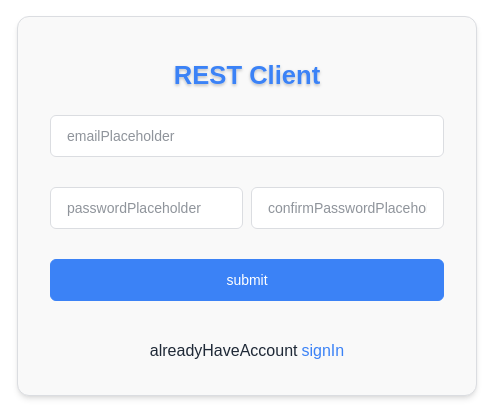
Test case: SignUp › checks the password strength
The width and height of the screenshot is (495, 417).
Type "test@user.com" into the field with placeholder "emailPlaceholder" at (247, 136), box [50, 115, 444, 157]
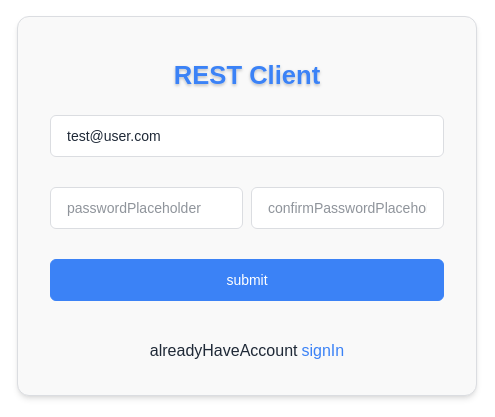
Type "weakPass" into the password field with placeholder "passwordPlaceholder" at (146, 208), box [50, 187, 243, 229]
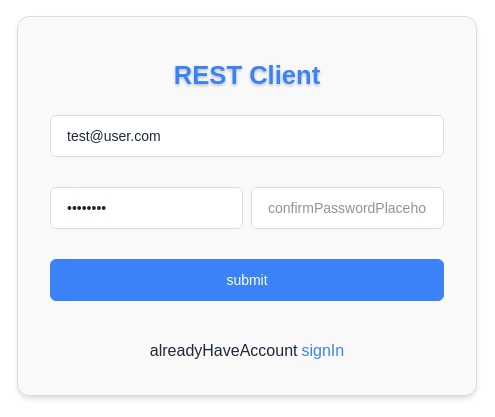
Type "weakPass" into the password field with placeholder "confirmPasswordPlaceholder" at (348, 208), box [251, 187, 444, 229]
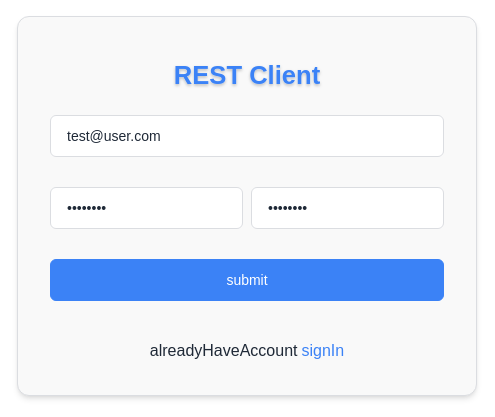
Click the button "submit" at (247, 280), box [50, 259, 444, 301]
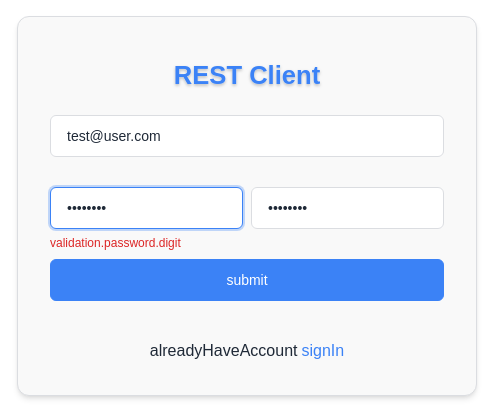
expect the text "validation.password.digit" is shown: met, box [50, 236, 181, 250]
